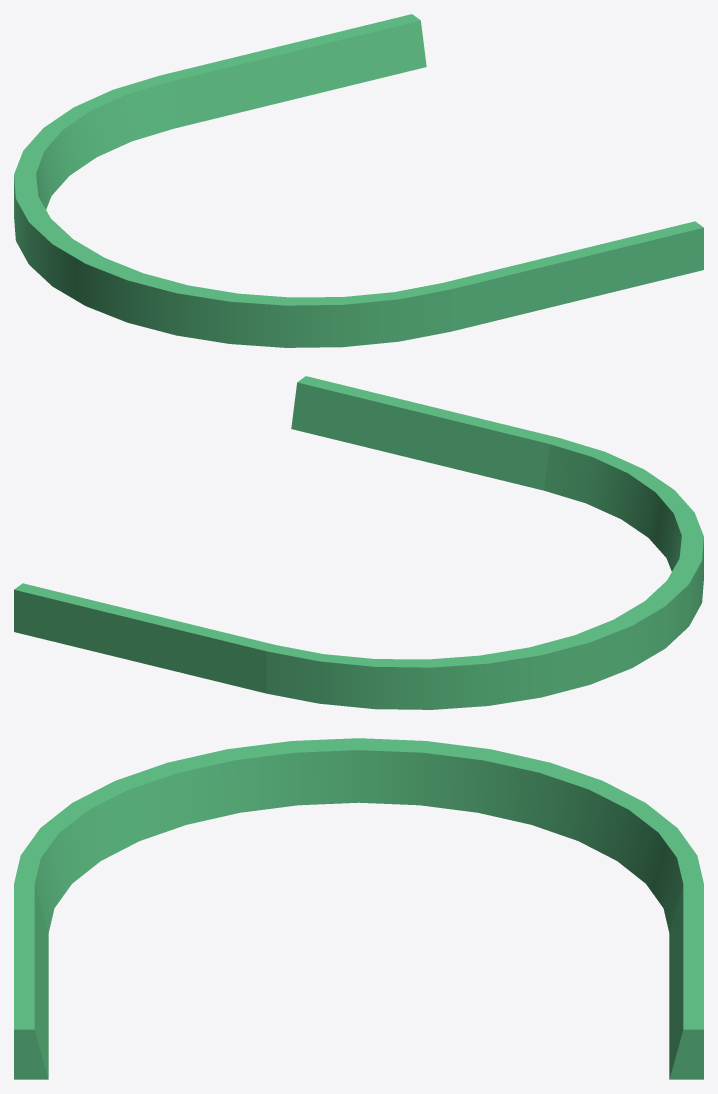
Rendered from road_end_round_barrier.glb.
The picture shows the model from 3 angles, top to bottom: view 1: azimuth 30°, elevation 25°; view 2: azimuth 150°, elevation 25°; view 3: azimuth 270°, elevation 25°; orthographic projection. The views are drawn at different scales.
Visible parts, largest first — view 1: road-end-round-barrier; view 2: road-end-round-barrier; view 3: road-end-round-barrier.
Part boxes in pixels (bbox=[...]): road-end-round-barrier: bbox=[14, 14, 703, 347]; road-end-round-barrier: bbox=[14, 376, 703, 709]; road-end-round-barrier: bbox=[14, 738, 703, 1079].
Size of the model in its own units: 1 by 0.08 by 1.
1 material, 1 textured.
